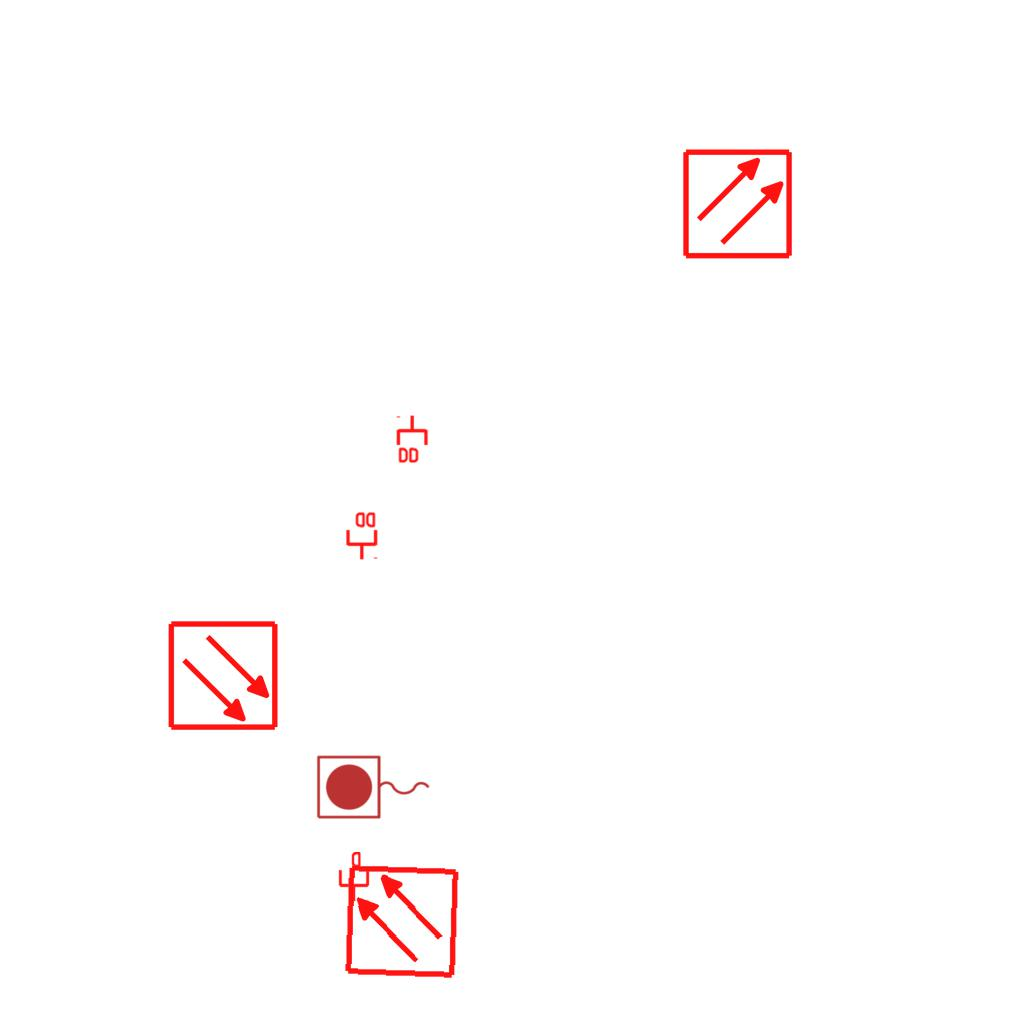Datenanschluss_einfach: (337, 852, 371, 902)
Datenanschluss_zweifach: (396, 414, 430, 465), (344, 510, 378, 561)
RMO_Rauchmelder_optischer: (343, 863, 460, 980), (167, 619, 280, 732), (681, 147, 794, 260)
Zugtaster: (313, 752, 435, 824)
